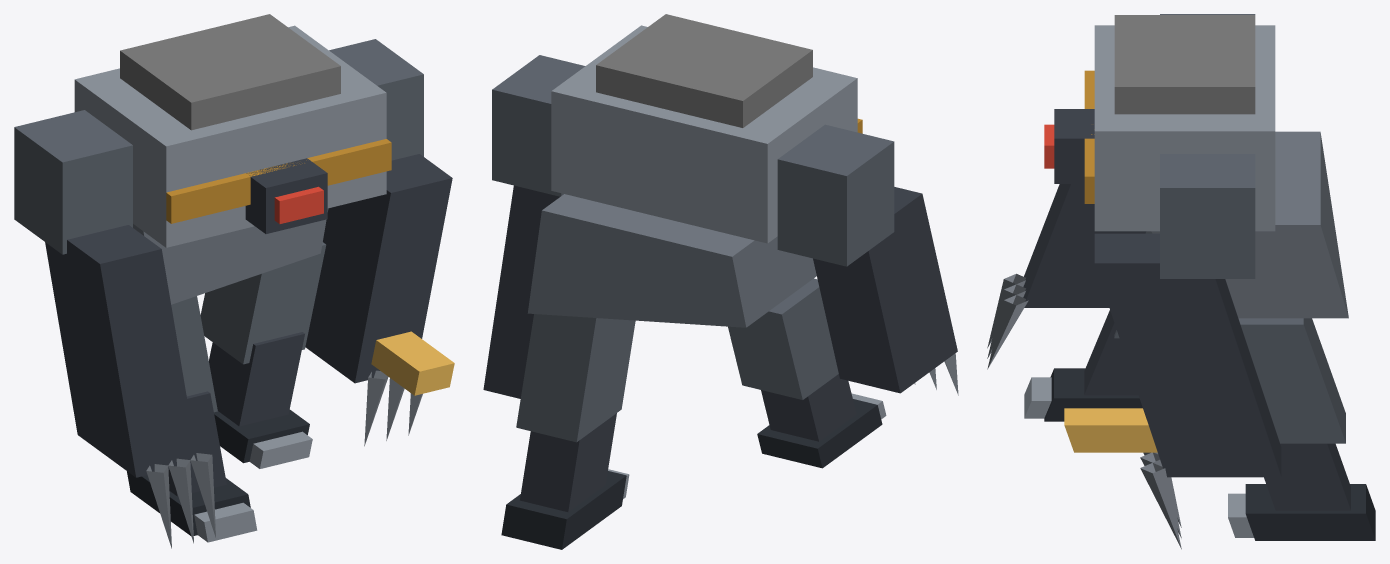
Rendered from wrecker-walk-6.obj.
3 views of the same model, side by side, from view 1: azimuth 30°, elevation 25°; view 2: azimuth 150°, elevation 25°; view 3: azimuth 270°, elevation 25° (orthographic).
Visible parts, largest first — view 1: wrecker-walk-6; view 2: wrecker-walk-6; view 3: wrecker-walk-6.
Boxes of the visible parts, x1,y1,x2,y2 form: wrecker-walk-6: (14,14,454,548); wrecker-walk-6: (483,14,958,549); wrecker-walk-6: (987,14,1375,549).
Bounding box in the file's own units: 1.67 × 1.92 × 1.55.
